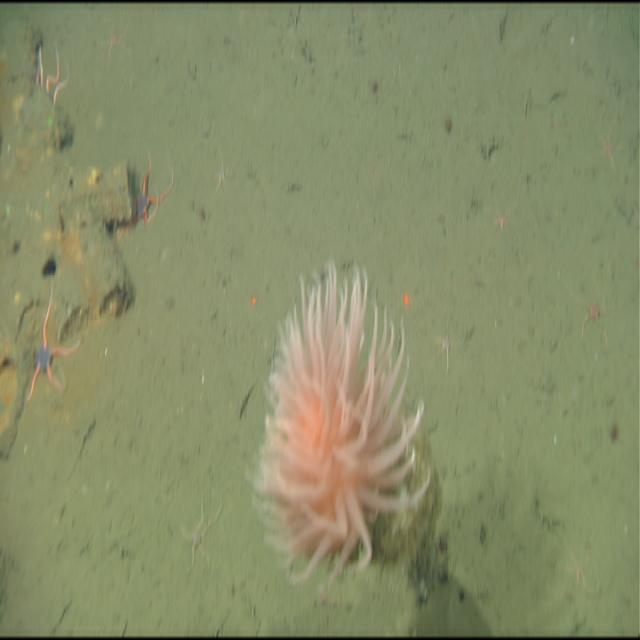Brittle Star: (26, 284, 82, 404), (121, 150, 179, 234), (561, 264, 615, 353), (182, 488, 222, 582), (429, 313, 466, 372)
Not Brittle Star: (242, 252, 433, 605)
